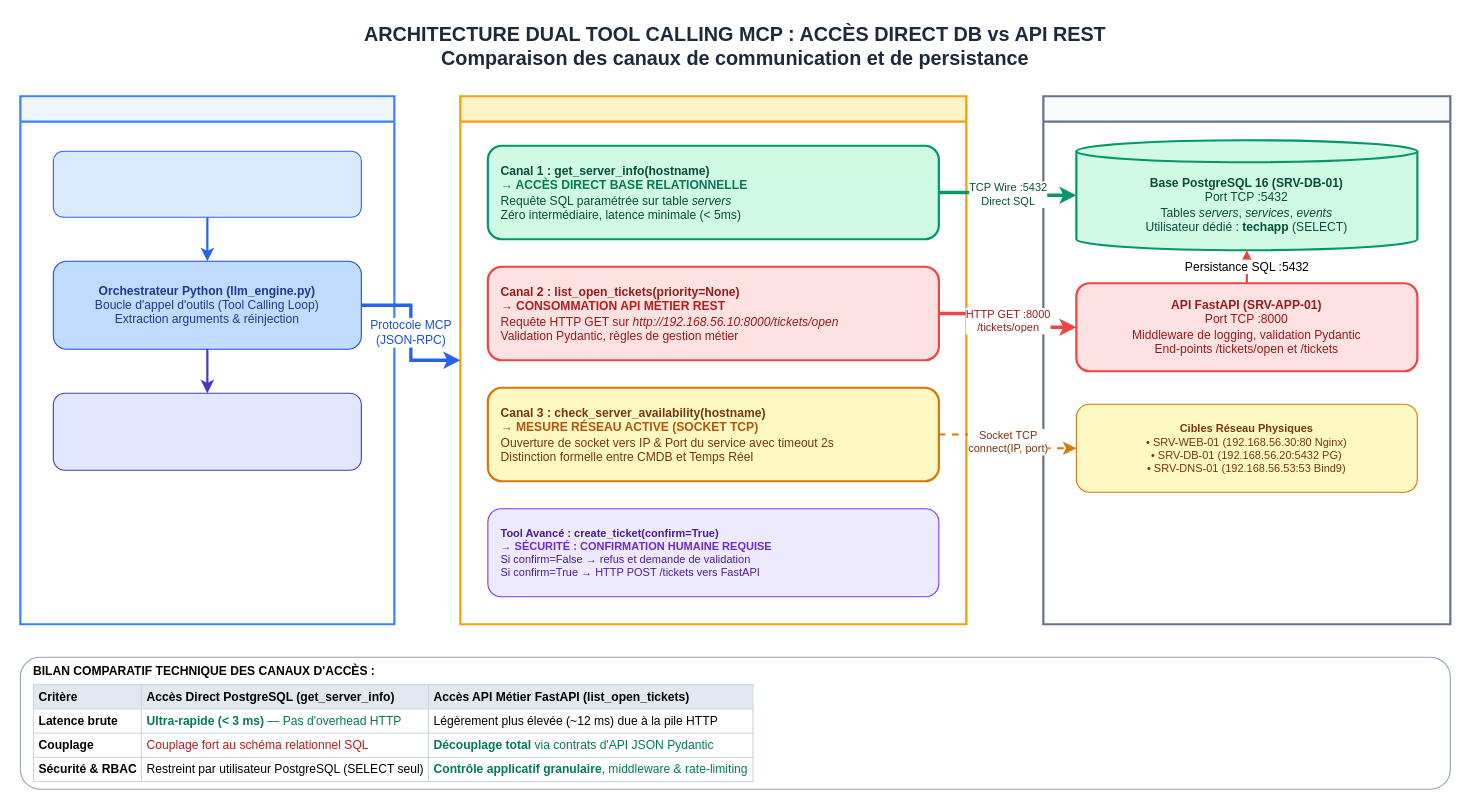
This 1470x809 diagram has some shape labels left out. Here are the shapes that lost their labels. From the top down, the box of each, then its label:
(52, 150, 361, 217): Streamlit UI (:8501) Saisie question & choix démo
(19, 95, 395, 625): 1. COUCHE ORCHESTRATION & CLIENT MCP (POSTE-ETU)
(459, 95, 967, 625): 2. COUCHE SERVEUR MCP (FastMCP : mcp_server/server.py)
(1042, 95, 1451, 625): 3. COUCHE SERVICES, PERSISTANCE & CIBLES
(52, 392, 361, 470): LLM Ollama (qwen3:4b) Port :11434 Génération de l'intention de Tool
